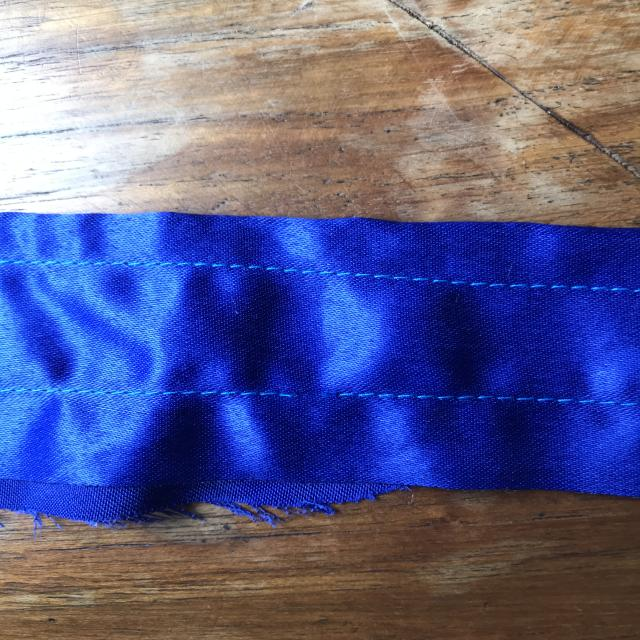broken: (270, 376, 354, 414)
good: (260, 248, 466, 294)
